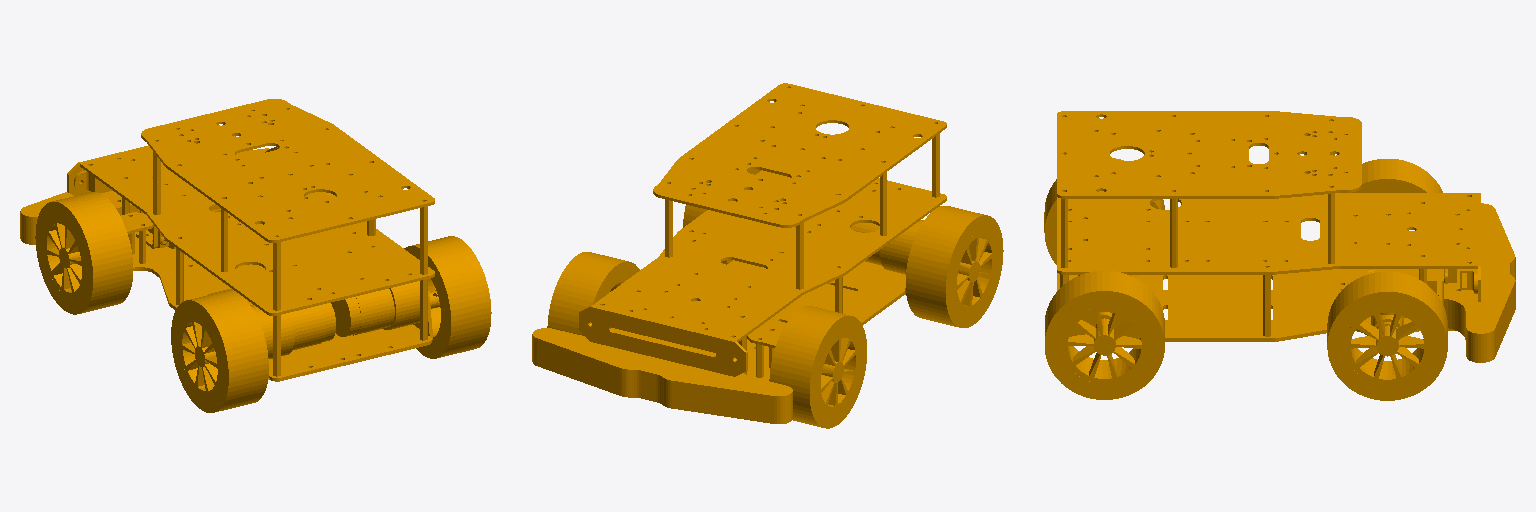
robot.urdf — pipi_bot:
<robot name="pipi_bot">
  <!-- base_link -->
  <link name="base_link">
    <visual>
      <geometry>
        <mesh filename="package://pipibot_description/meshes/base.stl" scale="0.001 0.001 0.001" />
      </geometry>
    </visual>
  </link>
</robot>

--- Render facts (derived) ---
The picture shows the robot from 3 angles, left to right: view 1: azimuth 30°, elevation 25°; view 2: azimuth 150°, elevation 25°; view 3: azimuth 270°, elevation 25°; orthographic projection.
Robot: pipi_bot — 1 links, 0 joints (none); root link base_link; default pose: all joints at 0.
Links seen in each view (by area): view 1: base_link; view 2: base_link; view 3: base_link.
Boxes of the visible links, left/top/right/bottom form: base_link: left=20, top=99, right=491, bottom=412; base_link: left=532, top=83, right=1003, bottom=428; base_link: left=1044, top=111, right=1515, bottom=400.
Size in the robot's own frame: 0.1964 by 0.2931 by 0.1241 metres.
Meshes: 1 distinct files referenced, 1 mesh visuals loaded (1 binary STL).
